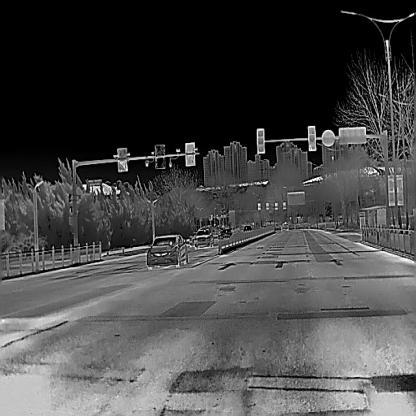car: (145, 232, 188, 268), (194, 226, 214, 248), (220, 227, 232, 239), (241, 223, 252, 234), (279, 221, 290, 230)
